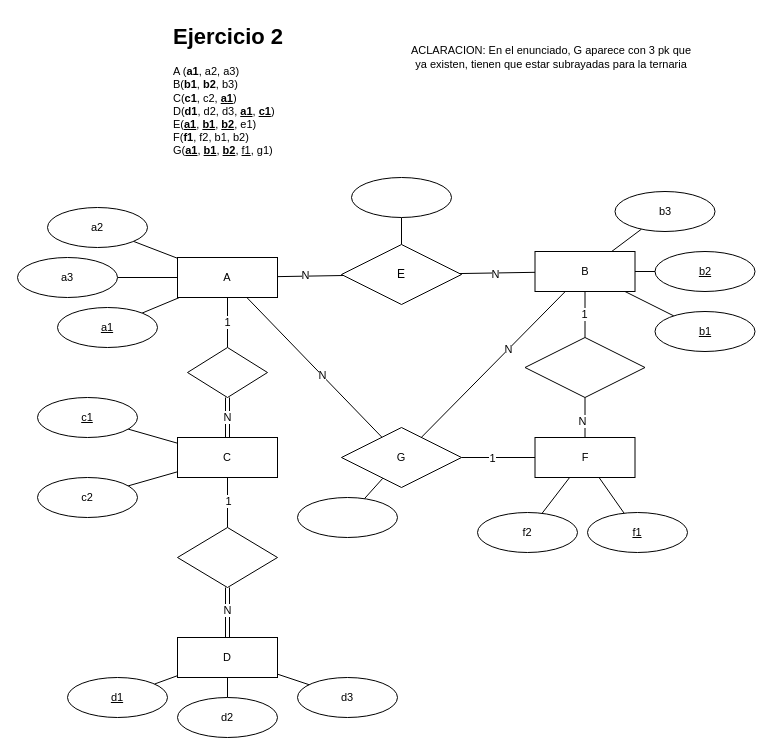
Some shapes in this 773 by 755 pixel diagram are drawn without their labels. Here are the shapes that lost their labels. From the top down, the box of each, then its label:
(350, 176, 452, 218): e1
(296, 496, 398, 538): g1
